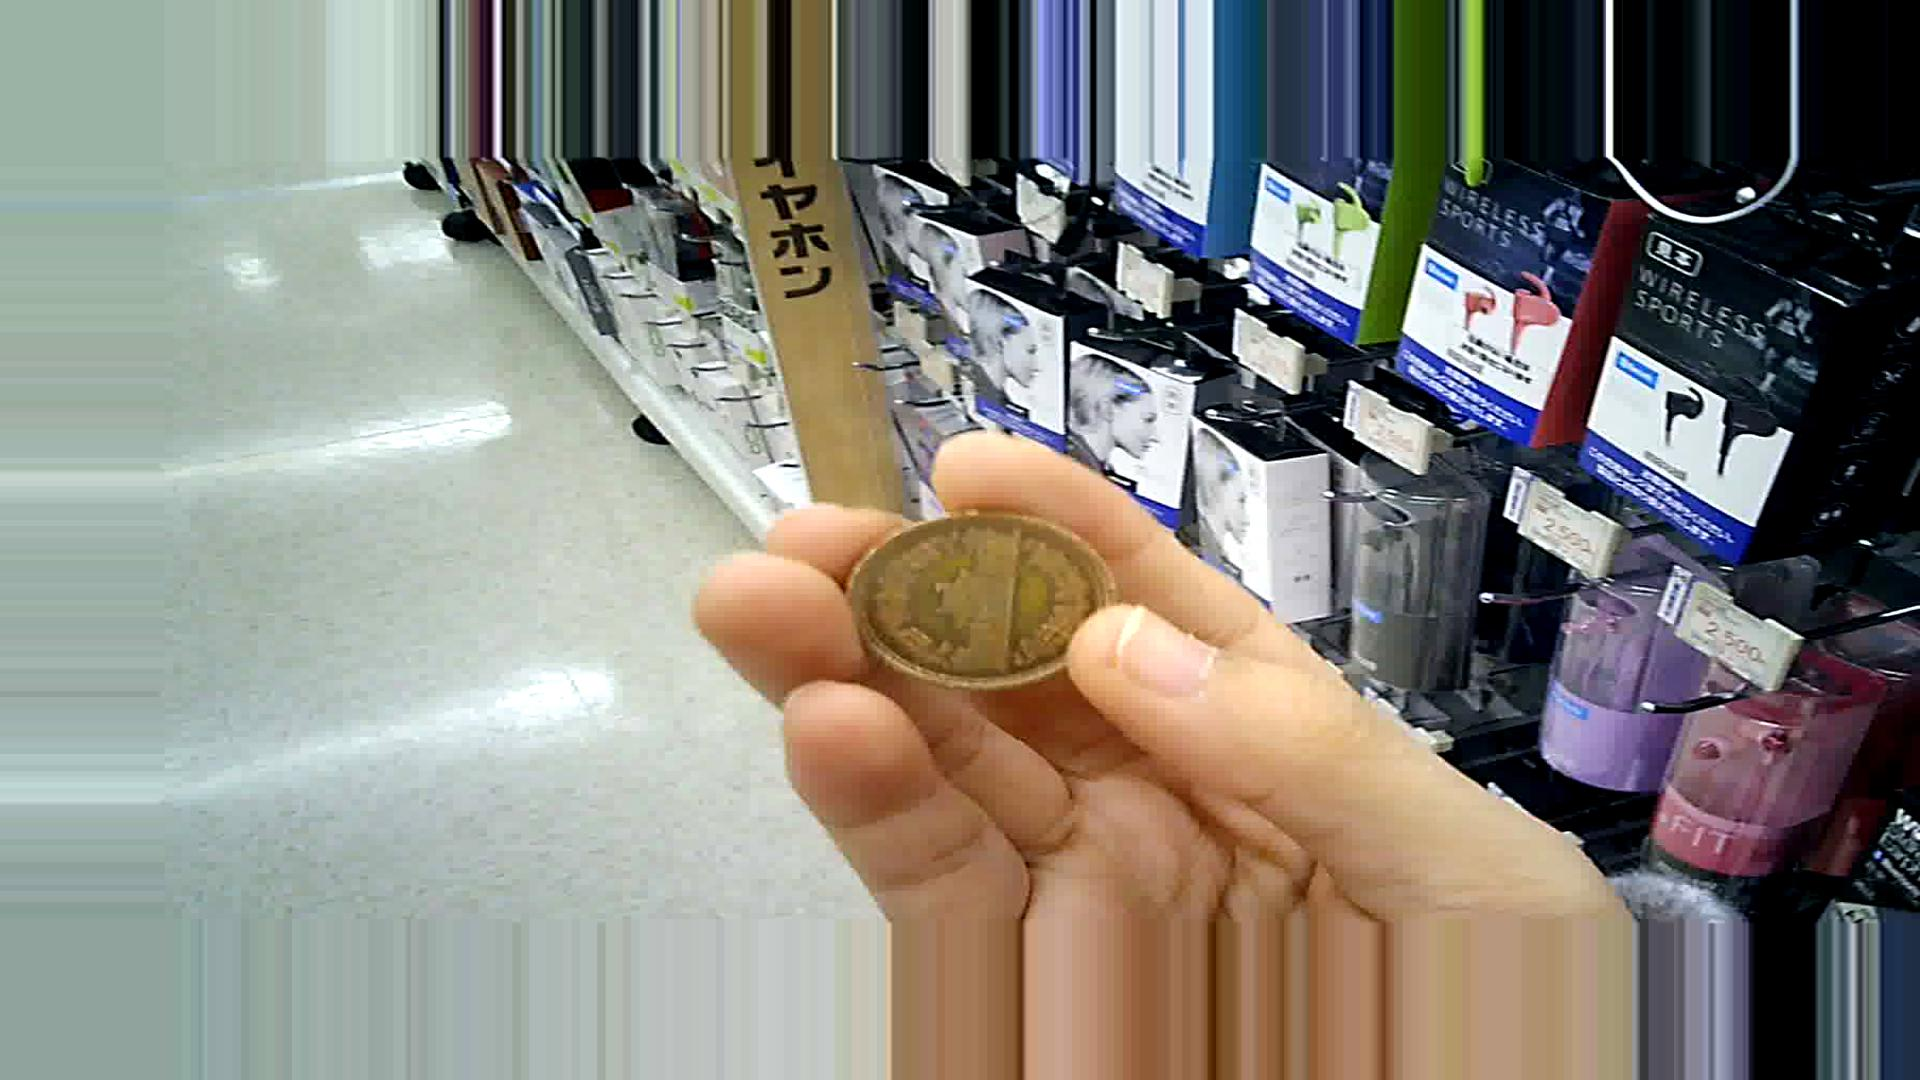10 Yen: (829, 498, 1117, 692)
